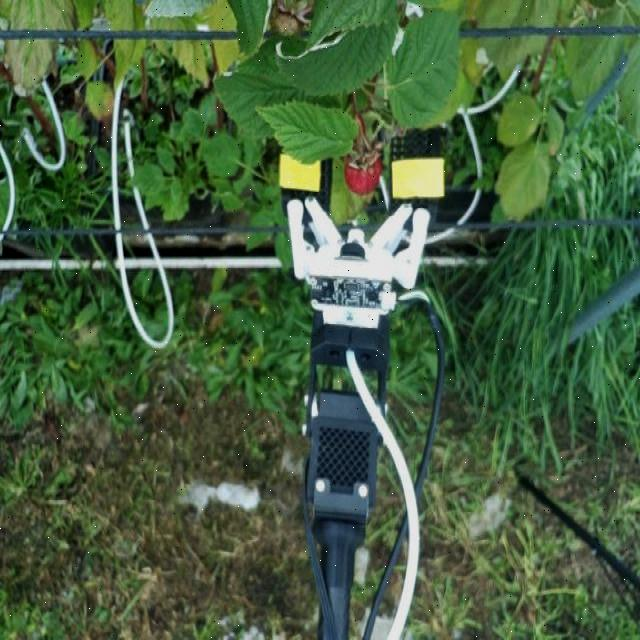Riped berries: (341, 147, 384, 197)
